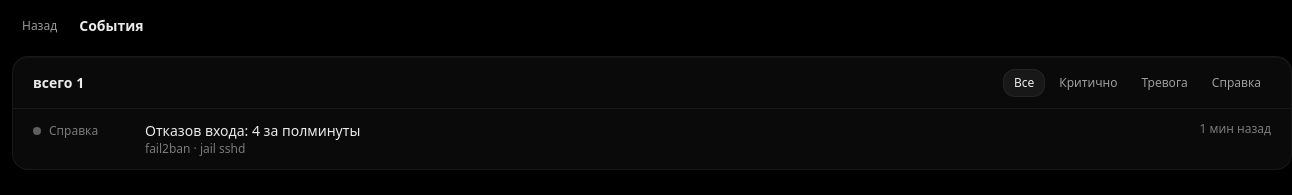
Test: экран ленты событий › пустая ВЫБОРКА не выдаётся за пустую ленту
Check: the text "Отказов входа: 4 за полминуты" is shown, box x1=145 y1=121 x2=360 y2=140
Click the button "Критично" at point(1088, 82), box x1=1049 y1=68 x2=1128 y2=96
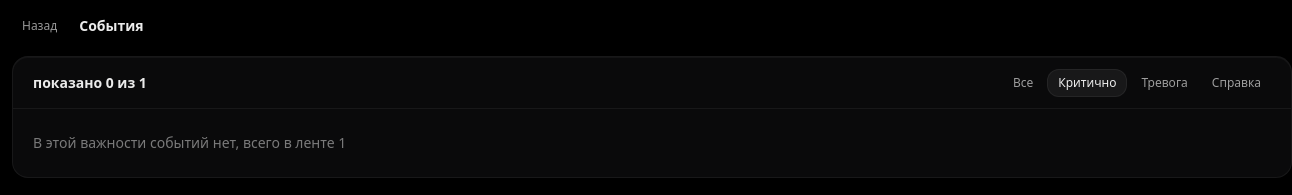
Check: the text "В этой важности событий нет, всего в ленте 1" is shown, box x1=33 y1=133 x2=346 y2=152
